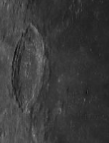crater: (6, 17, 56, 130)
